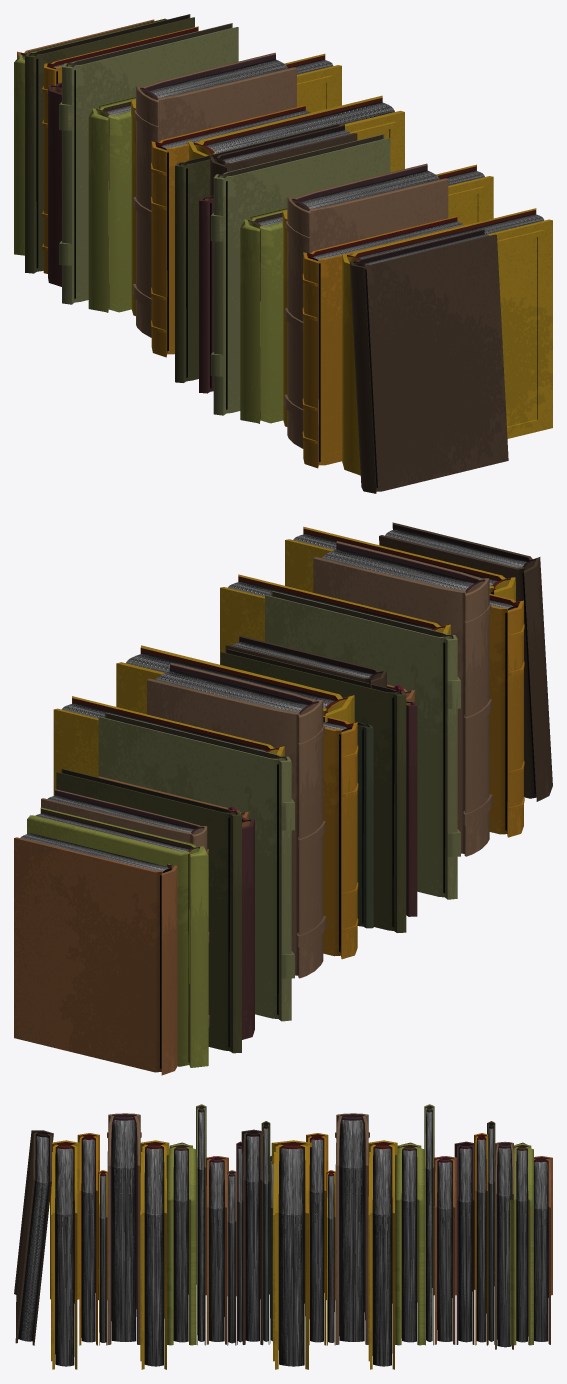
The model's file is Shelf21.fbx.
The picture shows the model from 3 angles, top to bottom: view 1: azimuth 30°, elevation 25°; view 2: azimuth 150°, elevation 25°; view 3: azimuth 270°, elevation 25°; orthographic projection. The views are drawn at different scales.
Parts seen in each view (by area): view 1: pCube68 (×2), pCube14 (×2), pCube12 (×4), pCube71 (×2), pCube11 (×3), pCube15 (×3), pCube67 (×2), pCube69 (×2), pages14 (×2), pages13 (×2), pages11 (×2), pages8 (×2) (+2 smaller); view 2: pCube14 (×2), pCube71 (×3), pCube72, pCube67 (×2), pCube15 (×2), pCube12 (×4), pCube11, pCube68 (×2), pCube69 (×2), pages13 (×3), pages14 (×4), pCube66 (+5 smaller); view 3: pages14 (×4), pages13 (×3), pCube12 (×4), pCube11 (×3), pages17 (×3), pages15 (×3), pages11 (×3), pages8 (×2), pCube71 (×3), pCube72 (×3), pages9 (×2), pCube68 (×2) (+11 smaller).
Part boxes in pixels (x1,y1,x2,y2): pCube68 (×2): [210, 124, 508, 493]; pCube14 (×2): [59, 23, 390, 415]; pCube12 (×4): [131, 53, 552, 475]; pCube71 (×2): [133, 52, 448, 448]; pCube11 (×3): [14, 18, 287, 423]; pCube15 (×3): [42, 26, 467, 468]; pCube67 (×2): [25, 14, 339, 382]; pCube69 (×2): [48, 82, 213, 393]; pages14 (×2): [204, 102, 544, 258]; pages13 (×2): [150, 59, 439, 208]; pages11 (×2): [157, 110, 462, 461]; pages8 (×2): [222, 129, 489, 487]; pCube14 (×2): [98, 590, 460, 1021]; pCube71 (×3): [41, 541, 492, 1027]; pCube72: [14, 837, 177, 1075]; pCube67 (×2): [56, 648, 406, 1053]; pCube15 (×2): [323, 594, 524, 959]; pCube12 (×4): [53, 526, 515, 795]; pCube11: [27, 807, 208, 1067]; pCube68 (×2): [225, 522, 552, 801]; pCube69 (×2): [242, 701, 417, 1039]; pages13 (×3): [47, 548, 474, 832]; pages14 (×4): [61, 533, 498, 751]; pCube66: [354, 721, 373, 928]; pages14 (×4): [55, 1148, 391, 1366]; pages13 (×3): [111, 1120, 511, 1347]; pCube12 (×4): [50, 1140, 397, 1369]; pCube11 (×3): [166, 1142, 533, 1345]; pages17 (×3): [209, 1161, 548, 1341]; pages15 (×3): [173, 1150, 527, 1342]; pages11 (×3): [81, 1139, 486, 1342]; pages8 (×2): [18, 1136, 259, 1341]; pCube71 (×3): [107, 1113, 513, 1349]; pCube72 (×3): [205, 1156, 552, 1344]; pages9 (×2): [237, 1148, 472, 1342]; pCube68 (×2): [14, 1129, 264, 1345].
Size of the model in its own units: 1.09 by 1.07 by 2.78.
